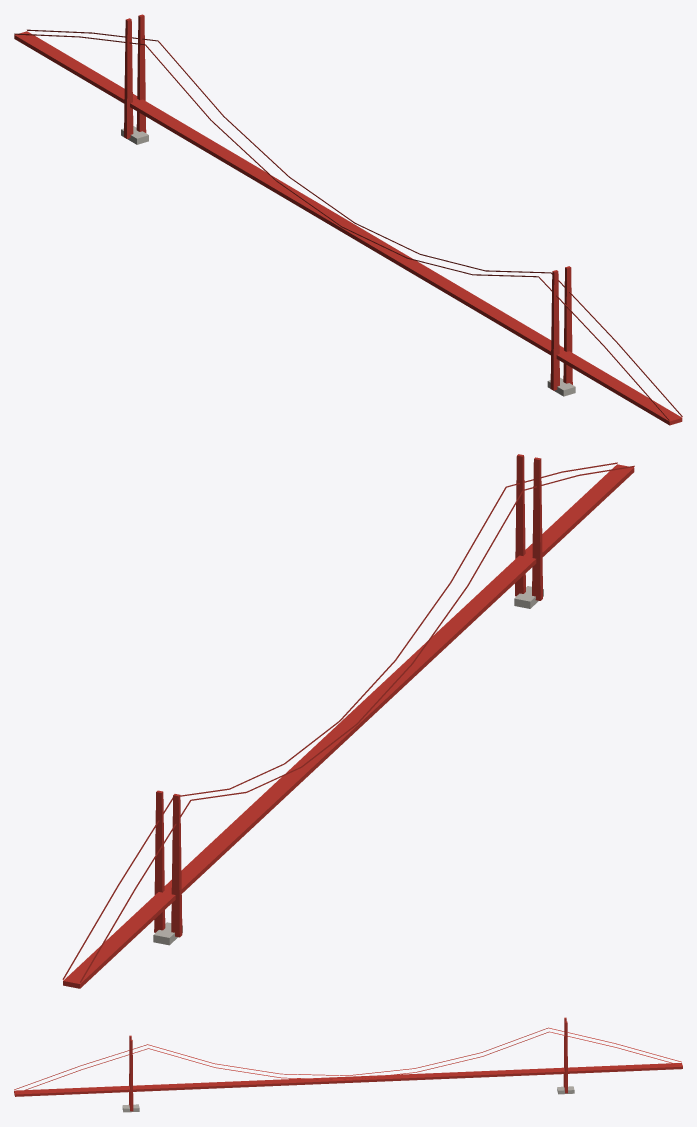
File: golden-gate-bridge_lod2.glb
3 views of the same model, one above another, from view 1: azimuth 30°, elevation 25°; view 2: azimuth 150°, elevation 25°; view 3: azimuth 270°, elevation 25° (orthographic). The views are drawn at different scales.
Parts seen in each view (by area): view 1: golden-gate-bridge_lod2_international_orange; view 2: golden-gate-bridge_lod2_international_orange; view 3: golden-gate-bridge_lod2_international_orange, golden-gate-bridge_lod2_concrete.
Boxes of the visible parts, box(x1,y1,x2,y2) form: golden-gate-bridge_lod2_international_orange: box(14, 14, 682, 425); golden-gate-bridge_lod2_international_orange: box(62, 454, 634, 988); golden-gate-bridge_lod2_international_orange: box(14, 1017, 682, 1111); golden-gate-bridge_lod2_concrete: box(122, 1086, 574, 1112).
Size of the model in its own units: 222 by 233 by 1960.
